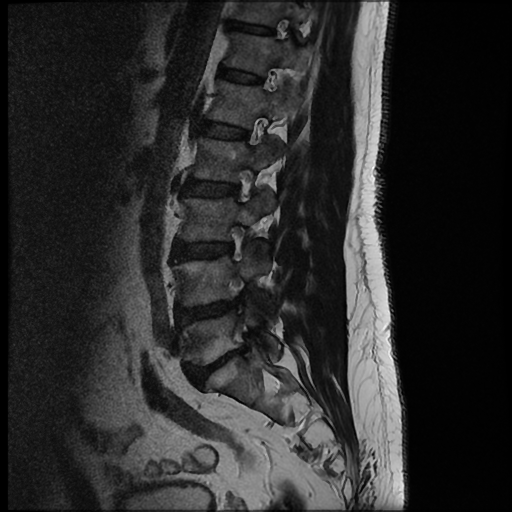LFS0: (216, 217, 257, 269), (235, 108, 273, 155), (224, 159, 259, 210)
